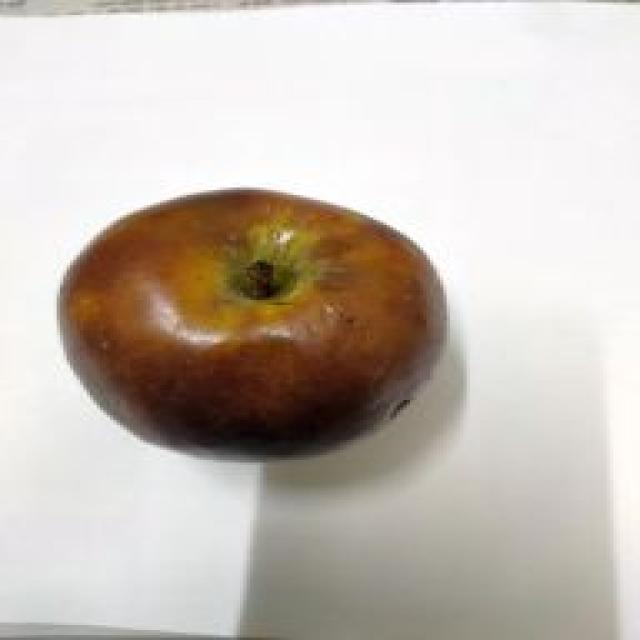Bad_Apple: (58, 189, 445, 457)
